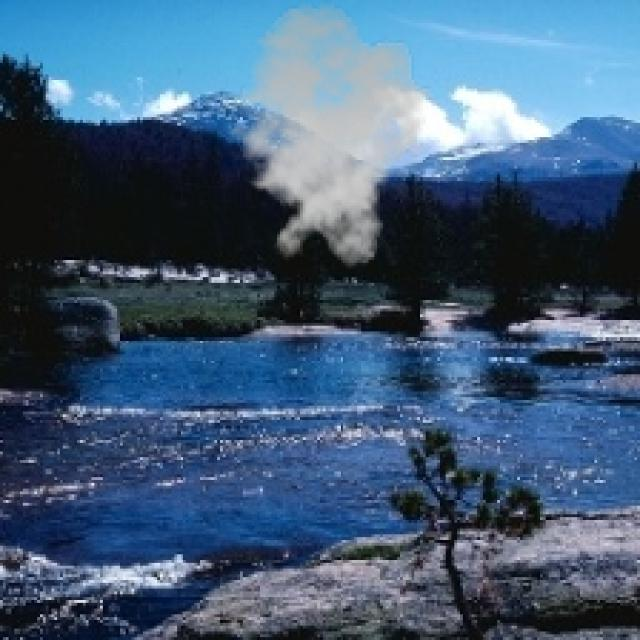smoke: (217, 3, 437, 268)
